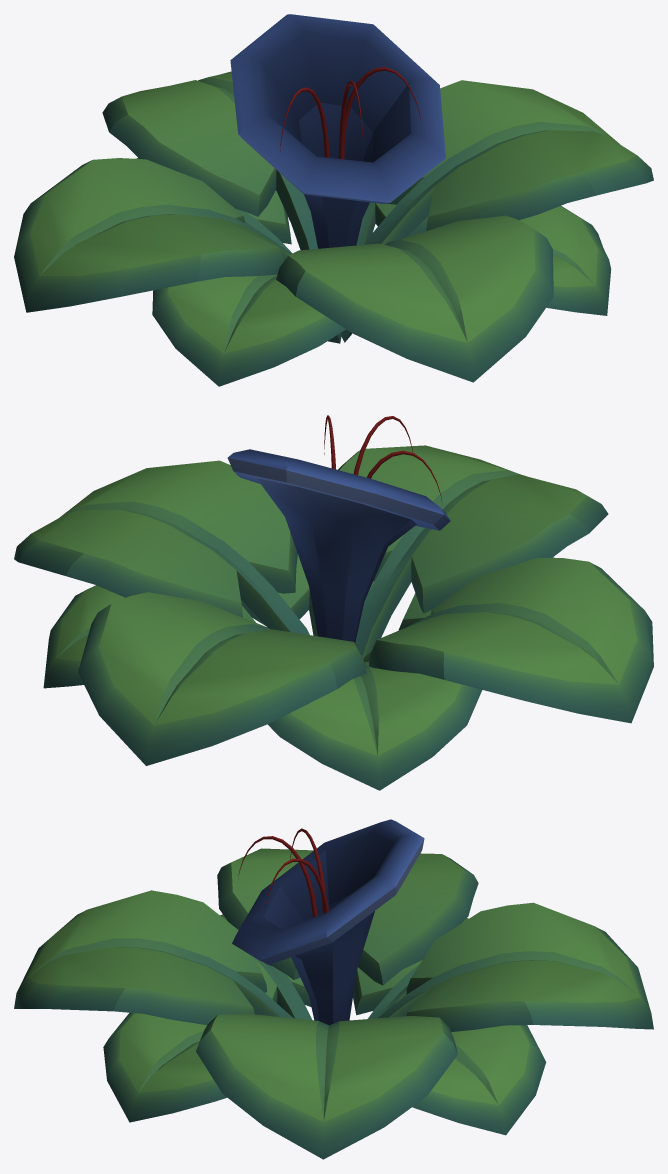
File: Fern-3-1.fbx
3 renders of one model, top to bottom at view 1: azimuth 30°, elevation 25°; view 2: azimuth 150°, elevation 25°; view 3: azimuth 270°, elevation 25°, orthographic. The views are drawn at different scales.
Visible parts, largest first — view 1: Fern-3-1; view 2: Fern-3-1; view 3: Fern-3-1.
Part boxes in pixels (x1=…): Fern-3-1: x1=14, y1=14, x2=653, y2=386; Fern-3-1: x1=14, y1=415, x2=653, y2=790; Fern-3-1: x1=14, y1=819, x2=653, y2=1159.
Size of the model in its own units: 324 by 151 by 324.
